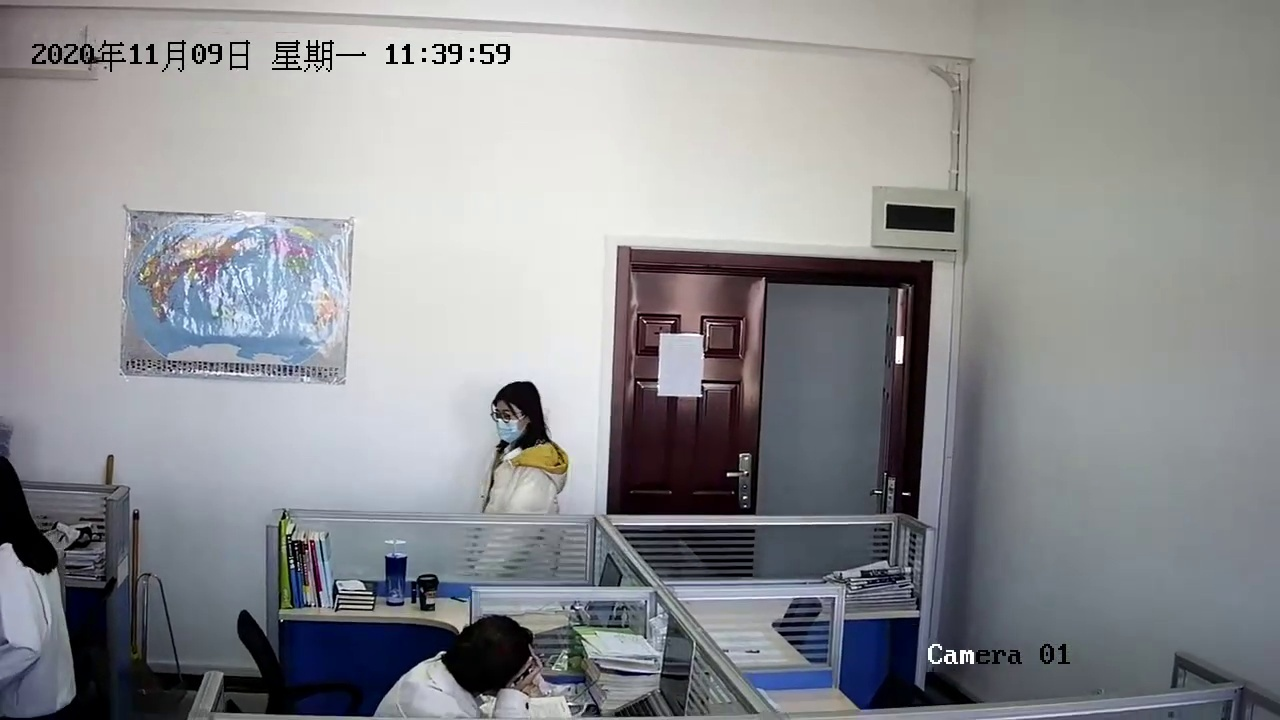mask: (484, 391, 538, 450)
